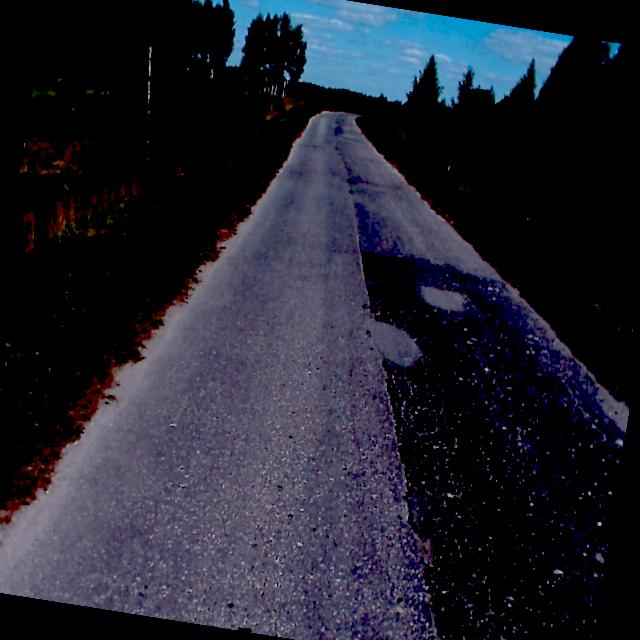road: (0, 115, 629, 640)
